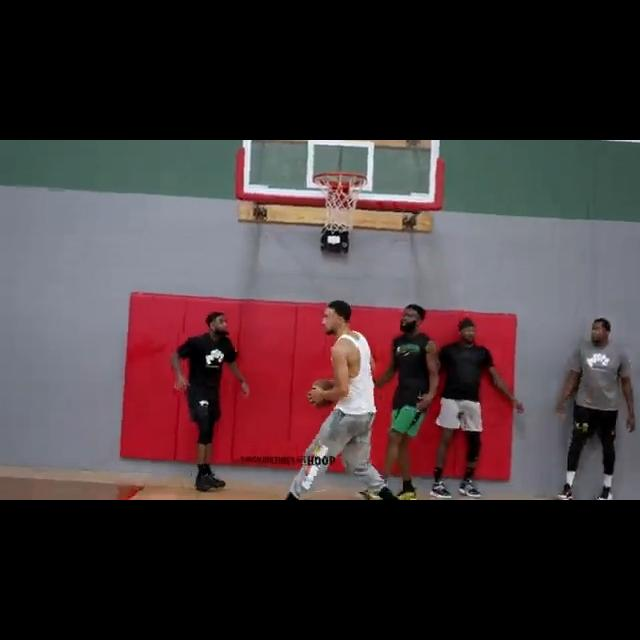hoop: (314, 173, 365, 233)
person: (281, 291, 400, 500), (428, 314, 521, 500), (169, 308, 251, 497), (555, 317, 636, 500), (372, 302, 436, 500)
